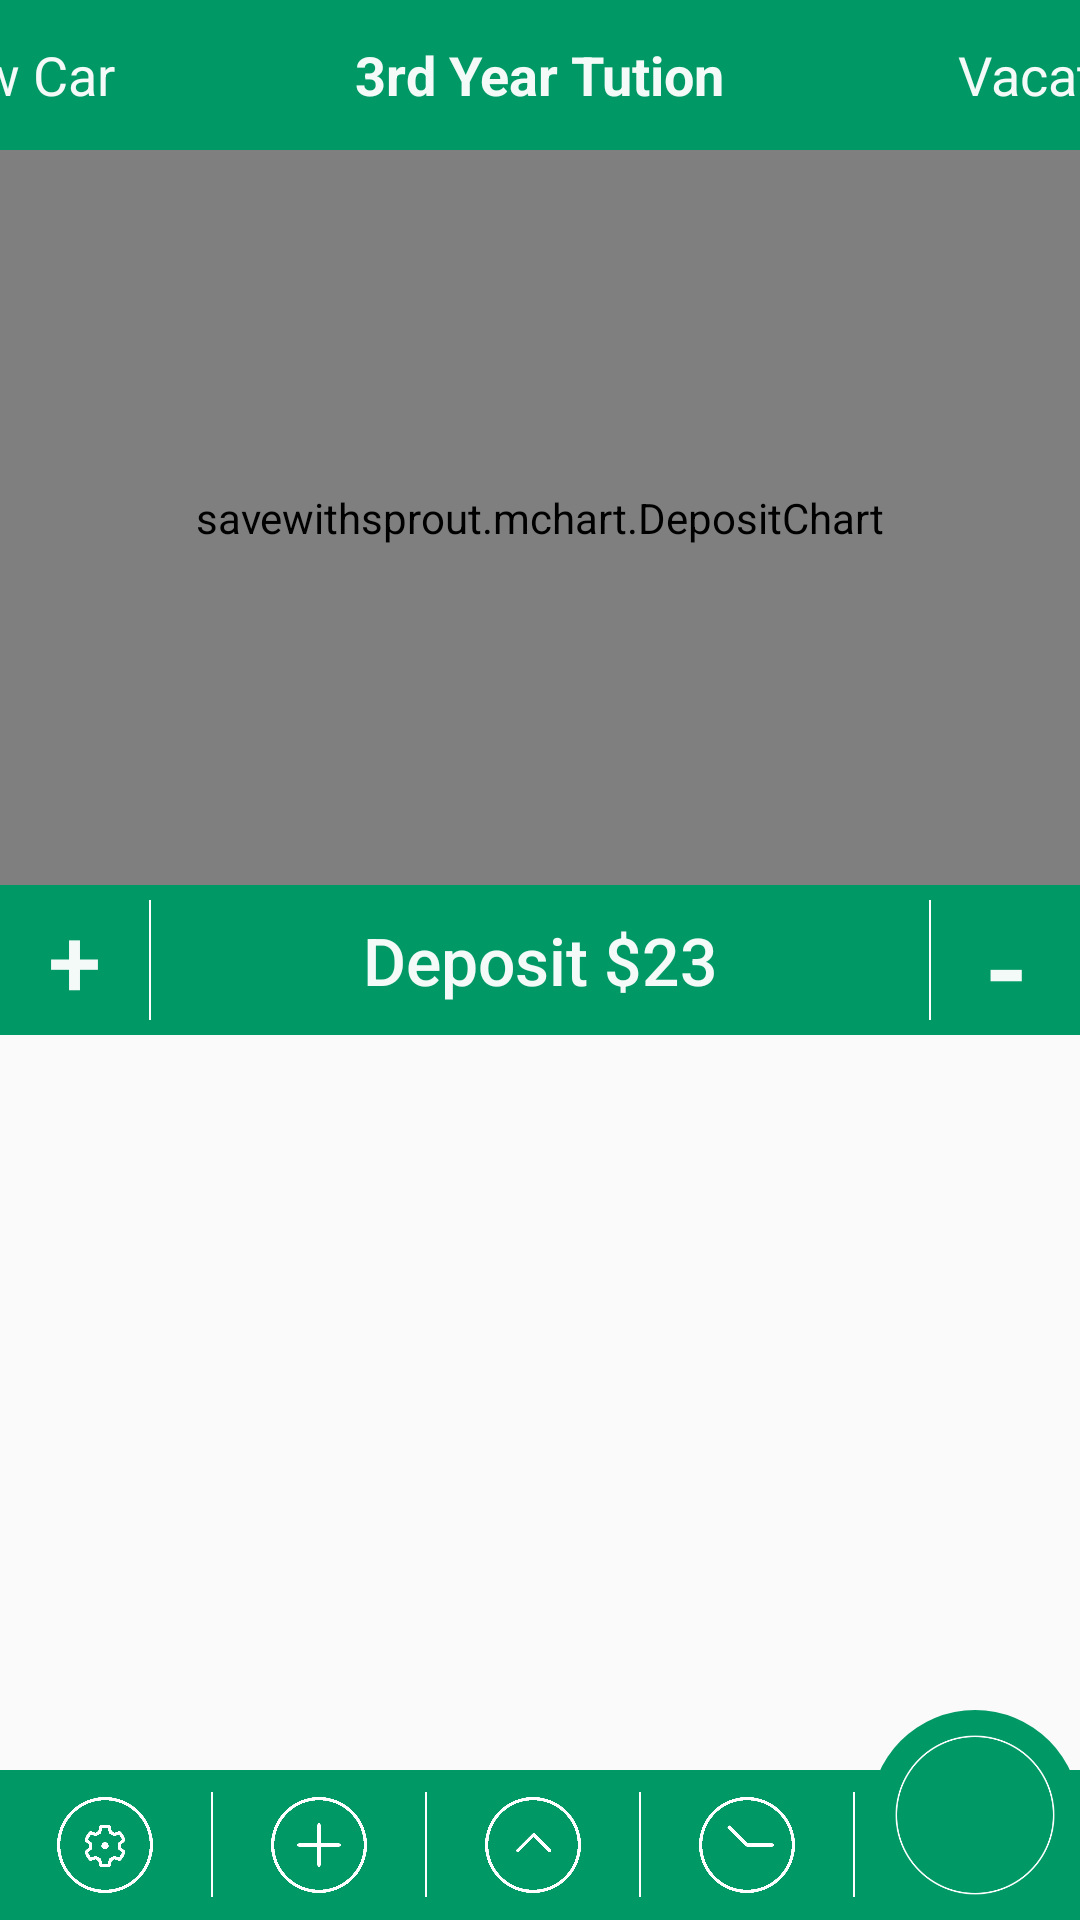

Screen size 1080 x 1920. Icon name, then its box in pixels as (x1, y1, x2, y2):
add: (271, 1797, 367, 1893)
clock: (699, 1797, 795, 1893)
setting: (57, 1797, 153, 1893)
